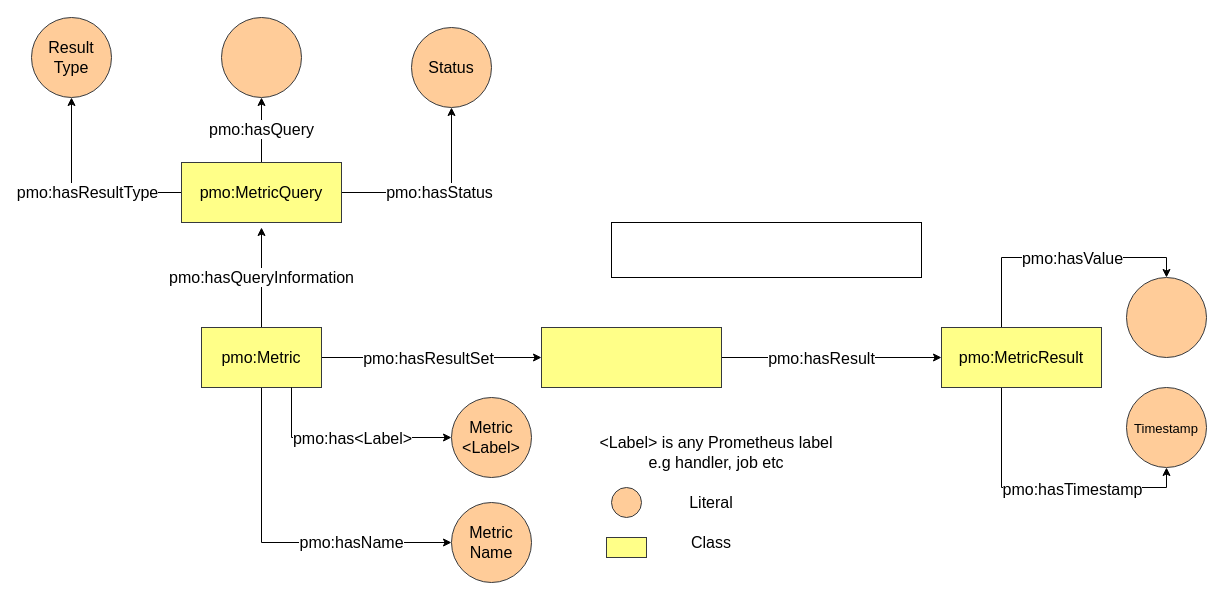
Image size: 1224x600. Some labels were removed from this diagram. The centre of each missing label's shape, as x and y in pixels:
"A Metric result set contains one or more results" belongs at [766,250].
"pmo:MetricResultSet" belongs at [631,357].
"Query" belongs at [261,57].
"Value" belongs at [1166,317].
